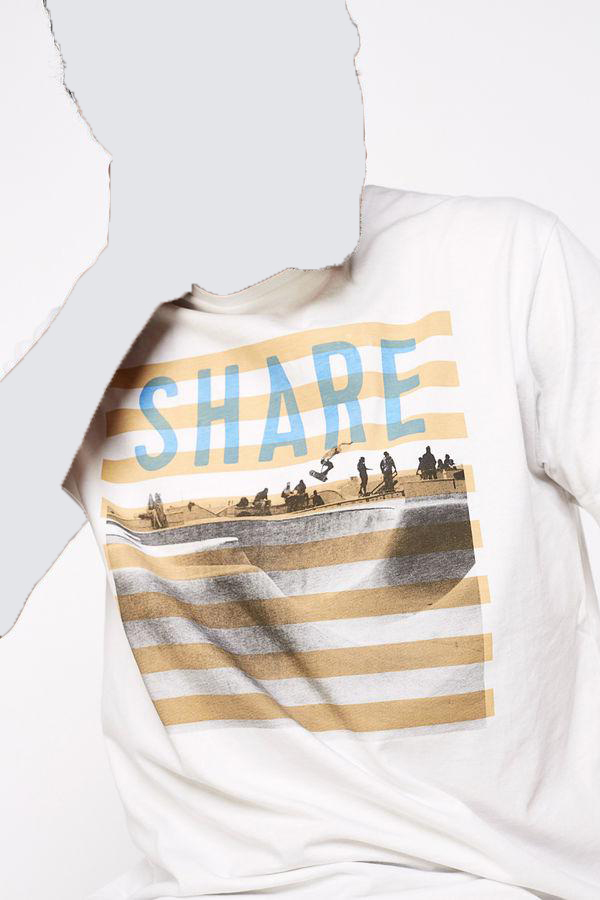teeshirt: (14, 185, 600, 877)
